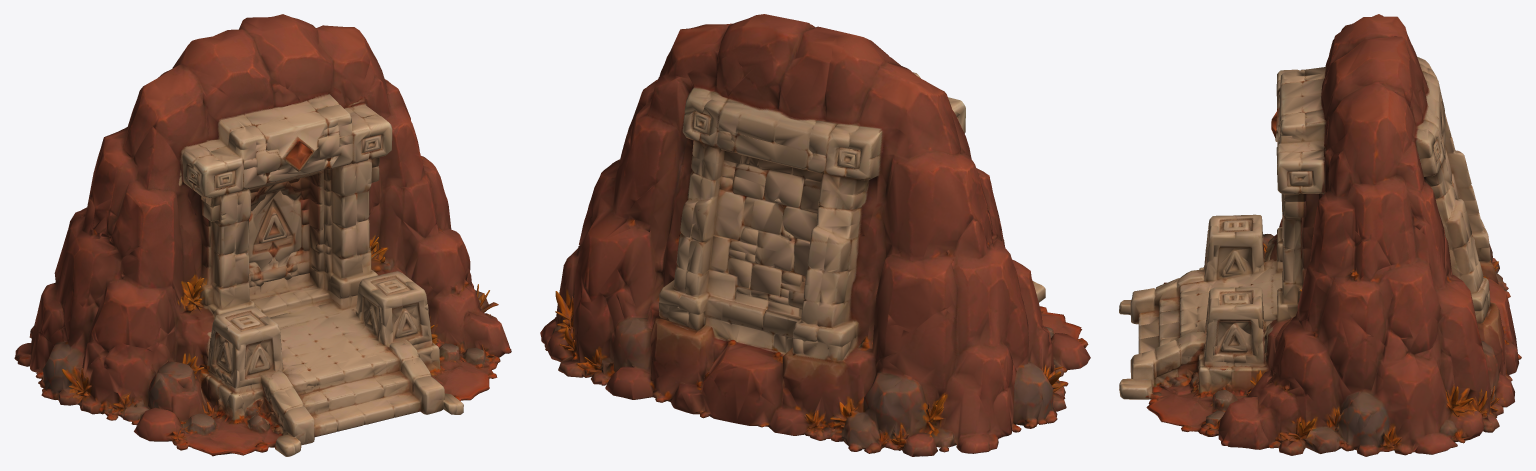
The model's file is templo_de_piedra.glb.
3 renders of one model, left to right at view 1: azimuth 30°, elevation 25°; view 2: azimuth 150°, elevation 25°; view 3: azimuth 270°, elevation 25°, orthographic. The views are drawn at different scales.
Parts seen in each view (by area): view 1: templo_de_piedra; view 2: templo_de_piedra; view 3: templo_de_piedra.
Boxes of the visible parts, <box> form: templo_de_piedra: <box>14,14,511,456</box>; templo_de_piedra: <box>540,14,1090,456</box>; templo_de_piedra: <box>1119,14,1521,456</box>.
Size of what is drawn, in the model's own units: 11.48 by 8 by 9.04.
Materials: 1 (1 with a texture image).
